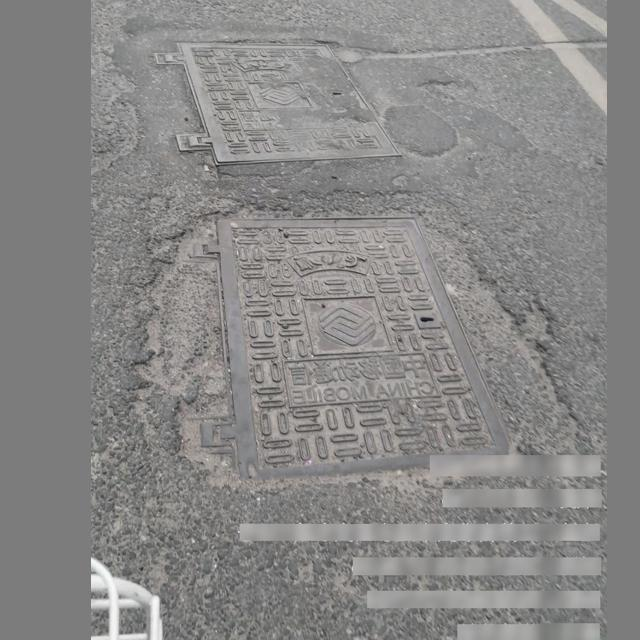good: (191, 215, 515, 477), (154, 45, 400, 165)
